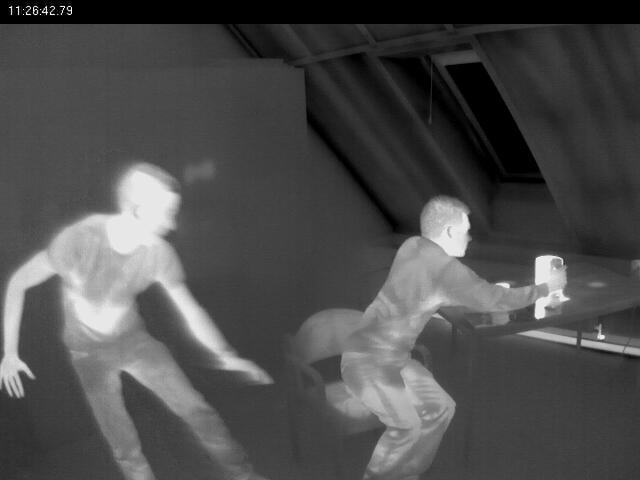person: (1, 149, 283, 480), (288, 191, 530, 480)
